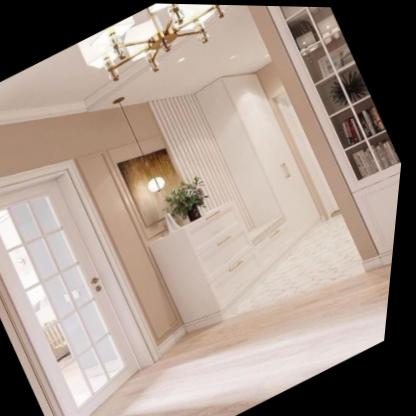Wooden floor: (98, 262, 397, 416)
